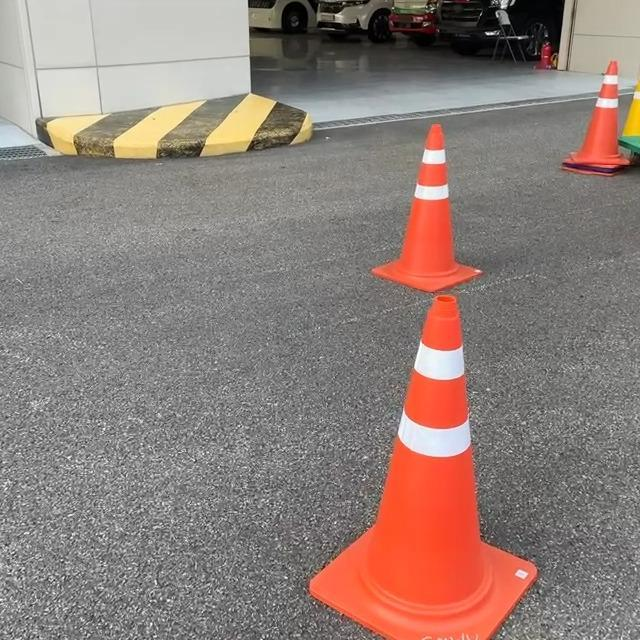fallen_object: (322, 287, 590, 640), (375, 113, 491, 300), (546, 16, 640, 166)
